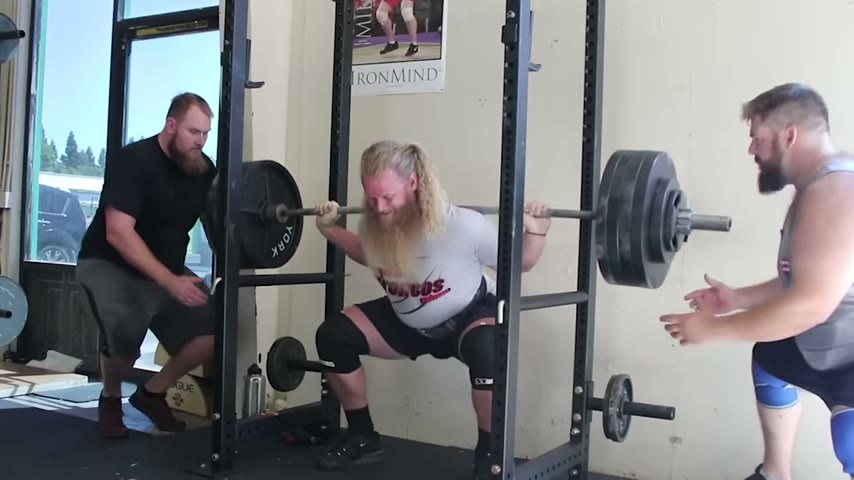barbell_plate_side: (641, 144, 744, 380), (457, 147, 577, 333), (645, 144, 743, 296)
